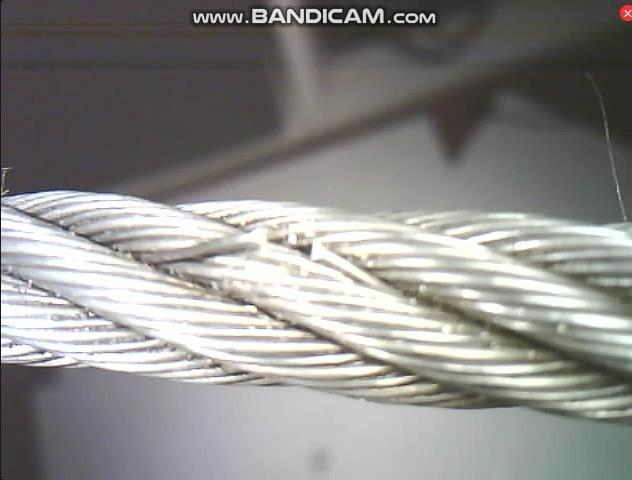break: (223, 218, 343, 279)
